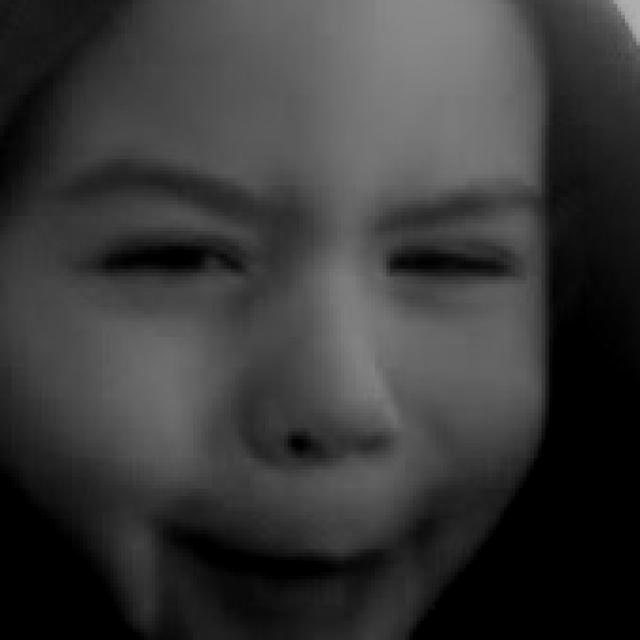real: (4, 0, 548, 640), (86, 204, 532, 330)
